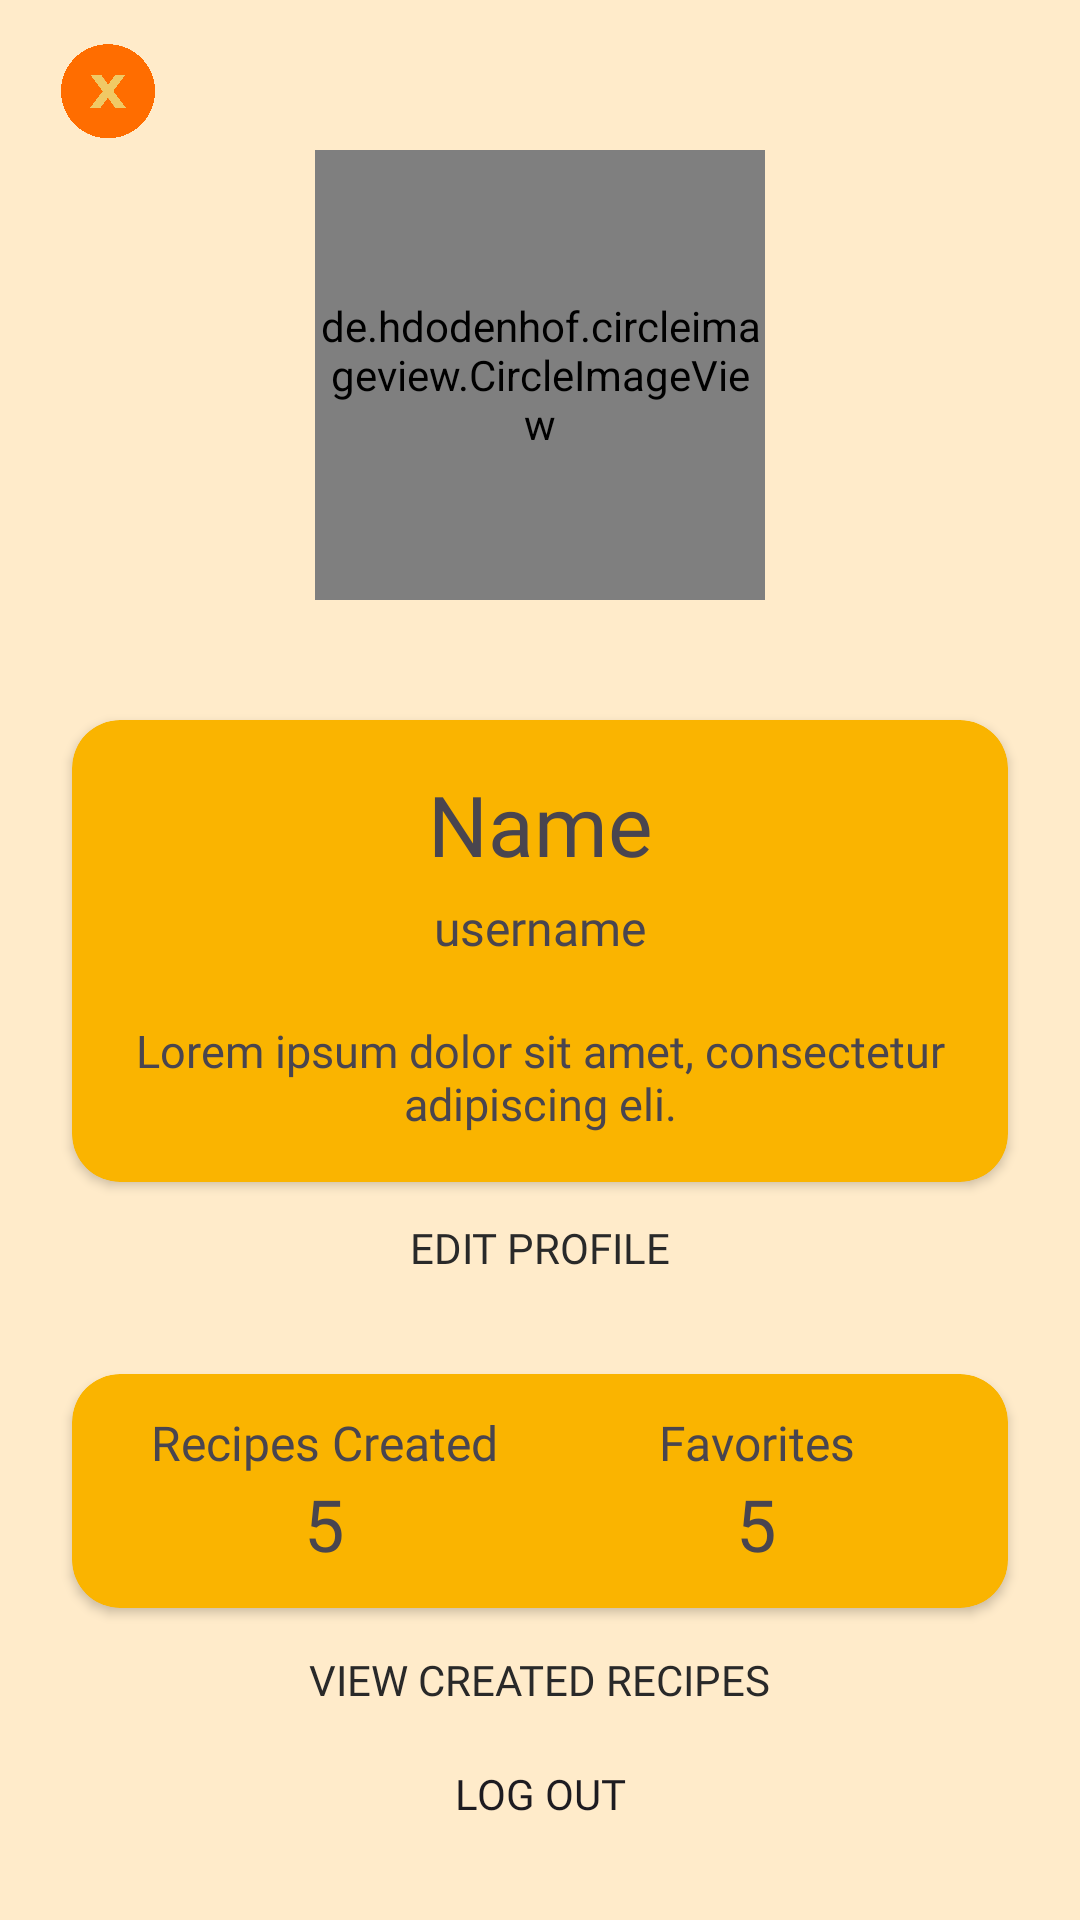

Icon bounding boxes for this 1080*1920 phone screenshot, format (x1, y1, x2, y2):
cancel circle: (61, 44, 155, 138)
